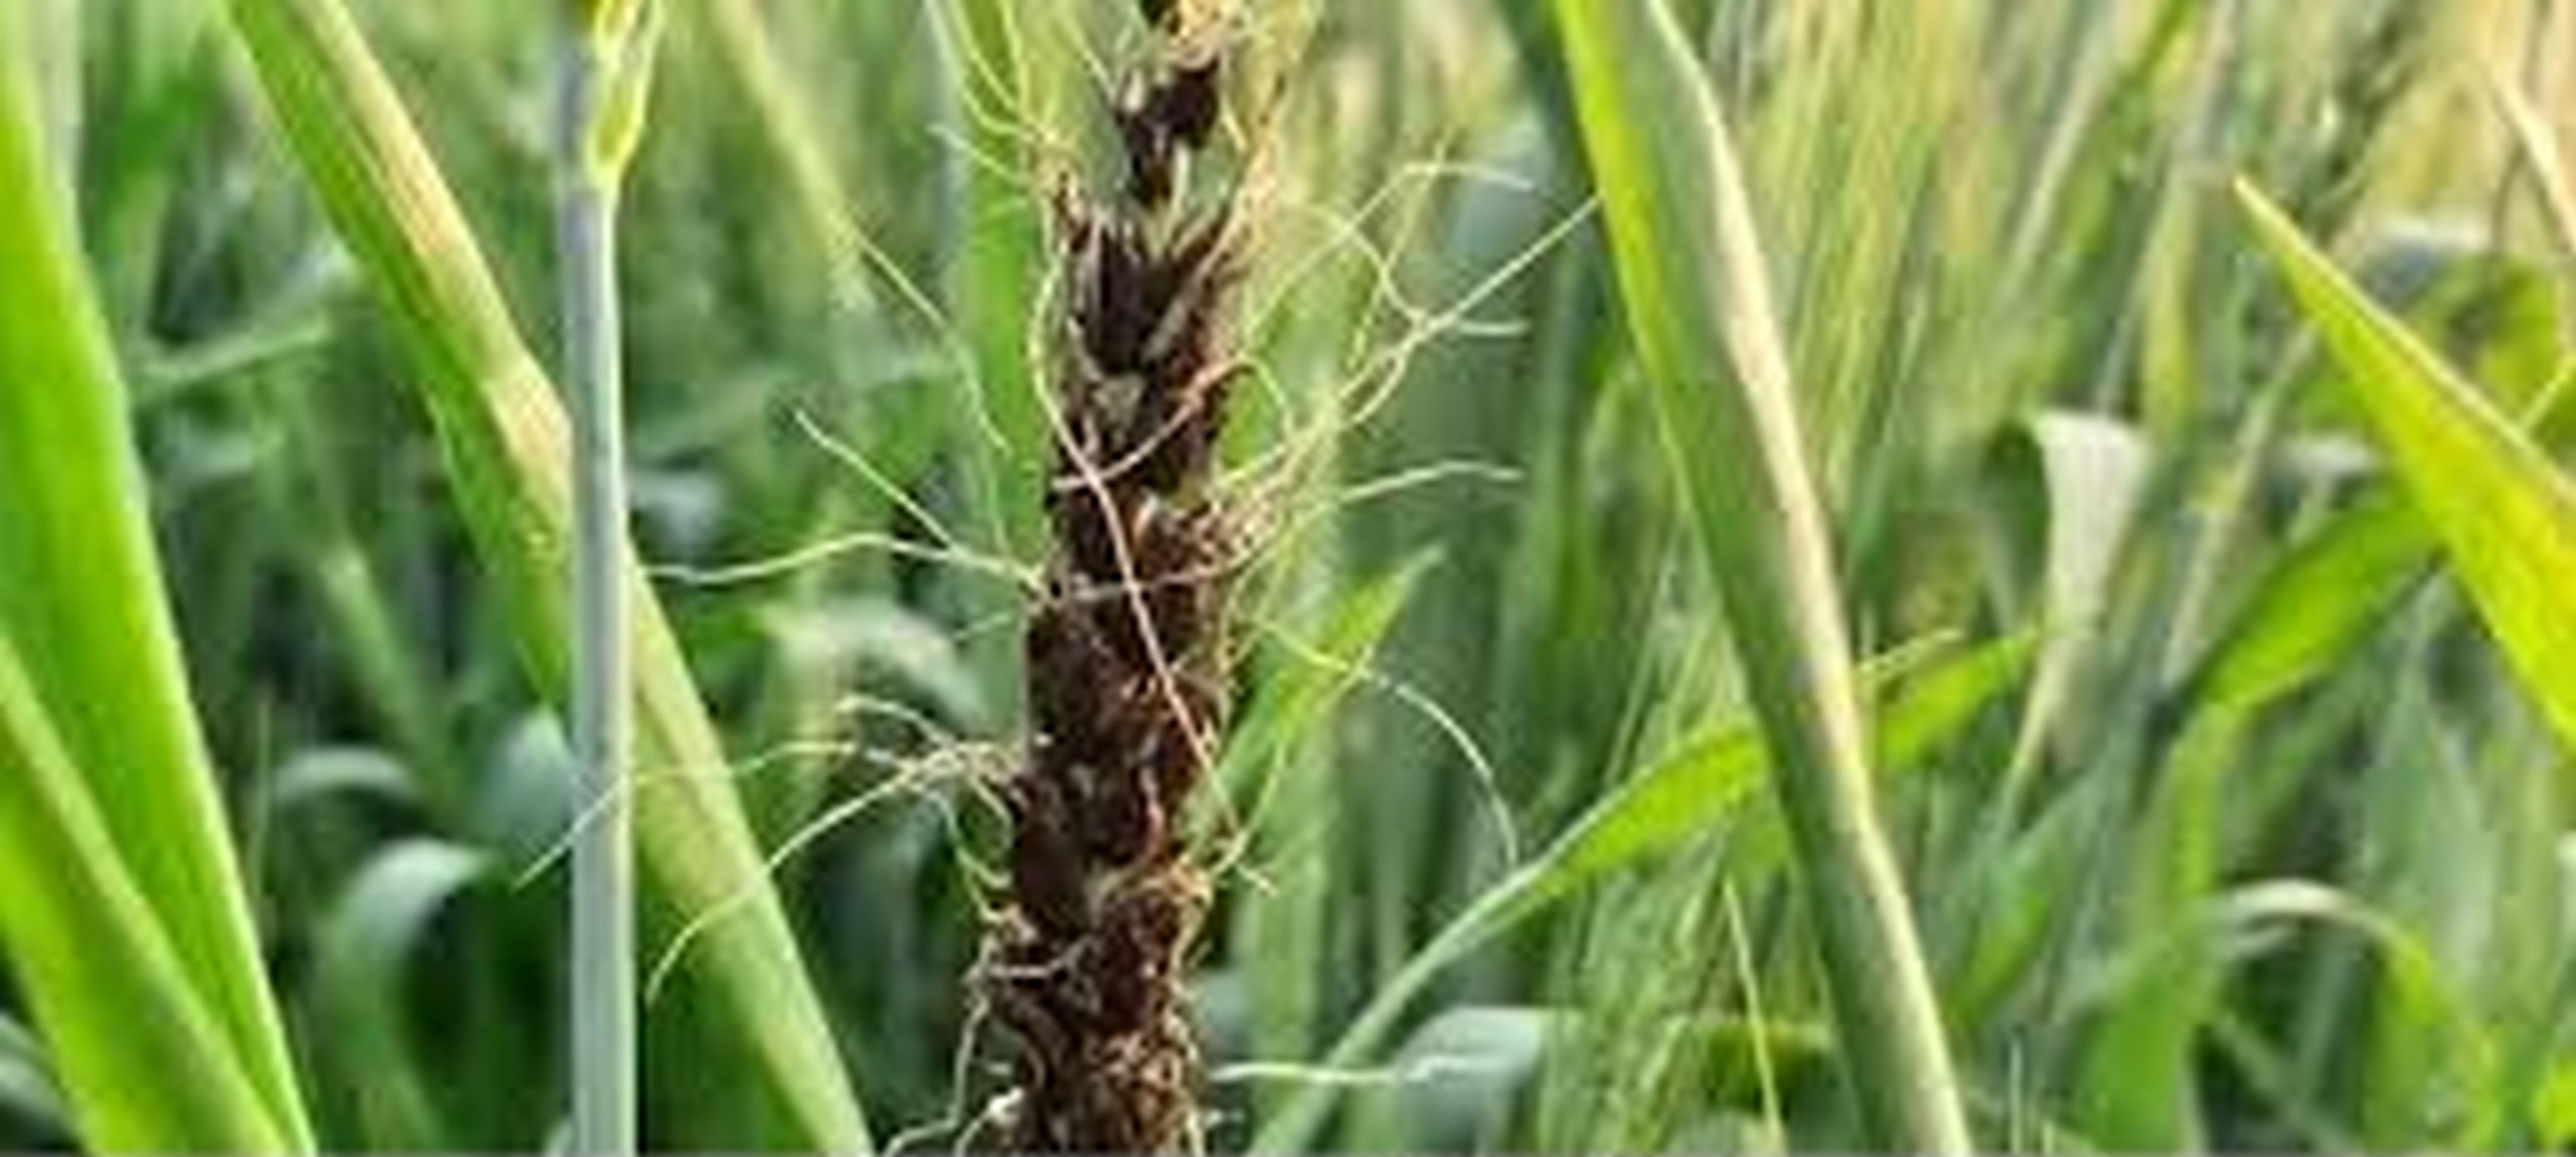Wheat Loose Smut: (940, 12, 1349, 1119)
